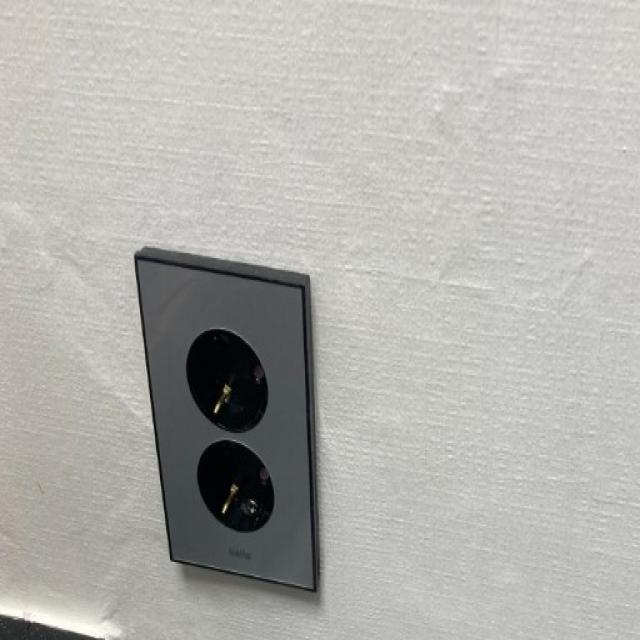typeb: (110, 207, 349, 640)
